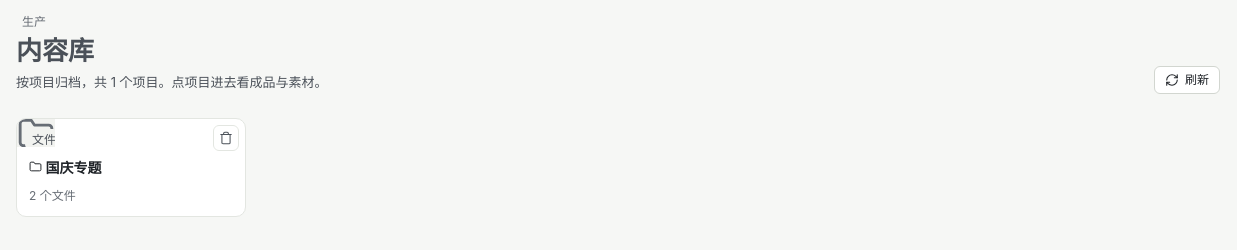
Test: OutputsPage 卡片 › 卡片主体是真按钮，点击进入项目；删除按钮并列、不嵌套
The width and height of the screenshot is (1237, 250).
Click the button "文件夹 国庆专题 2 个文件". click: (131, 168)
box: [17, 119, 245, 216]
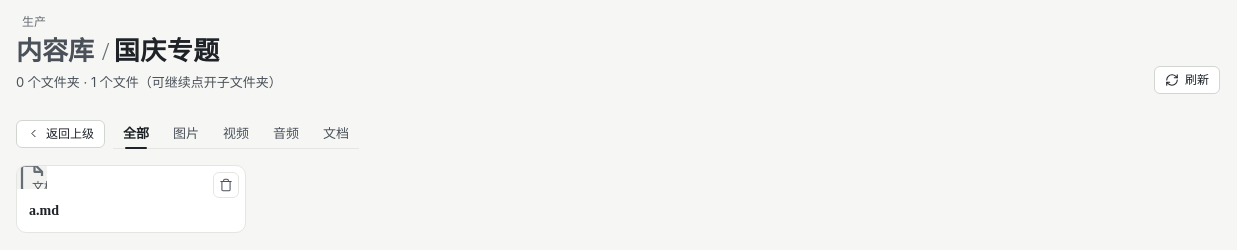
Now the text "a.md" is shown, box [29, 199, 59, 222]
